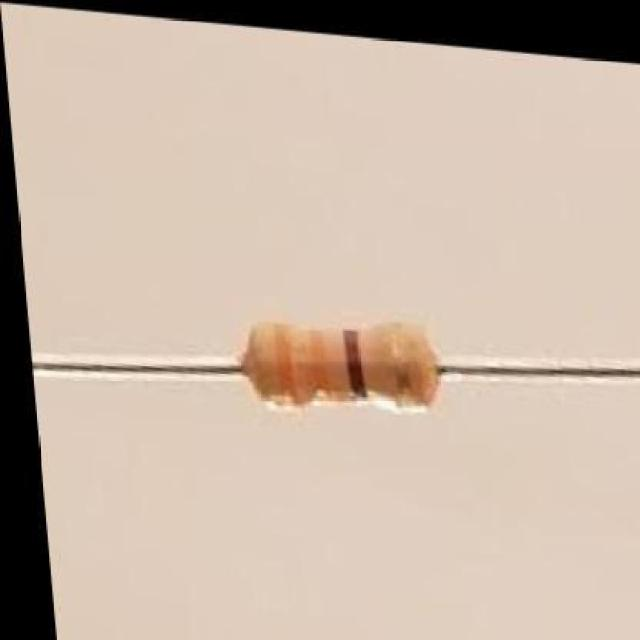Resistor: (34, 322, 640, 406)
